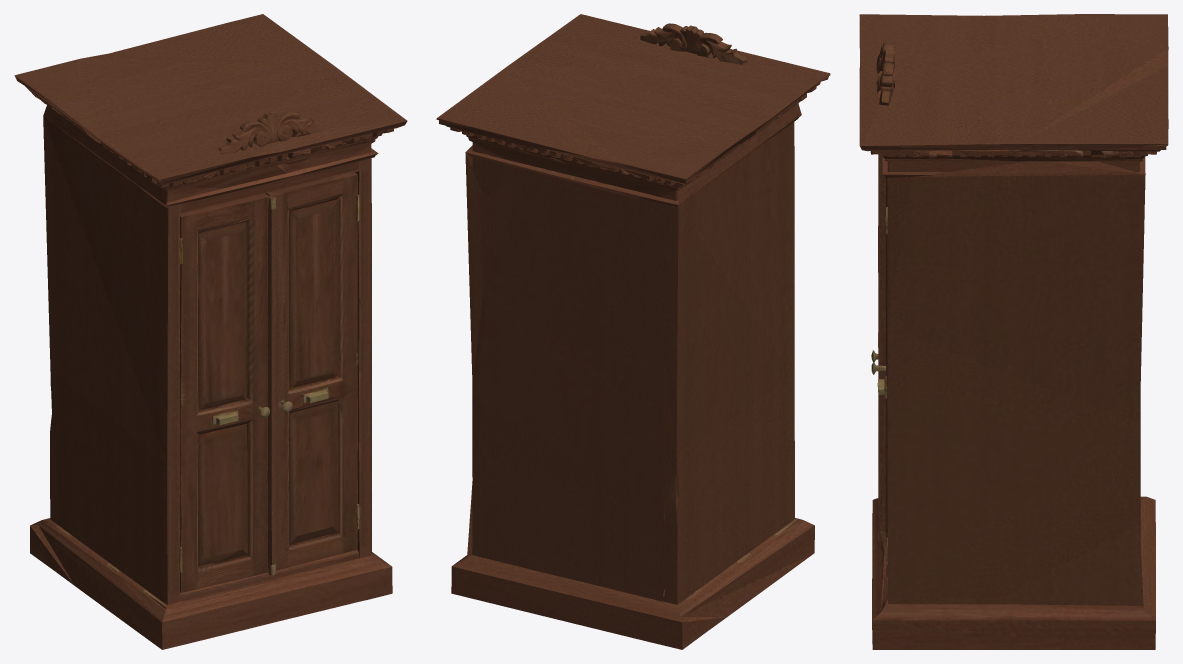
Rendered from museumCover.glb.
3 views of the same model, side by side, from view 1: azimuth 30°, elevation 25°; view 2: azimuth 150°, elevation 25°; view 3: azimuth 270°, elevation 25° (orthographic). The views are drawn at different scales.
Size of the model in its own units: 0.9884 by 1.9 by 0.9899.
Materials: 1 (1 with a texture image).
